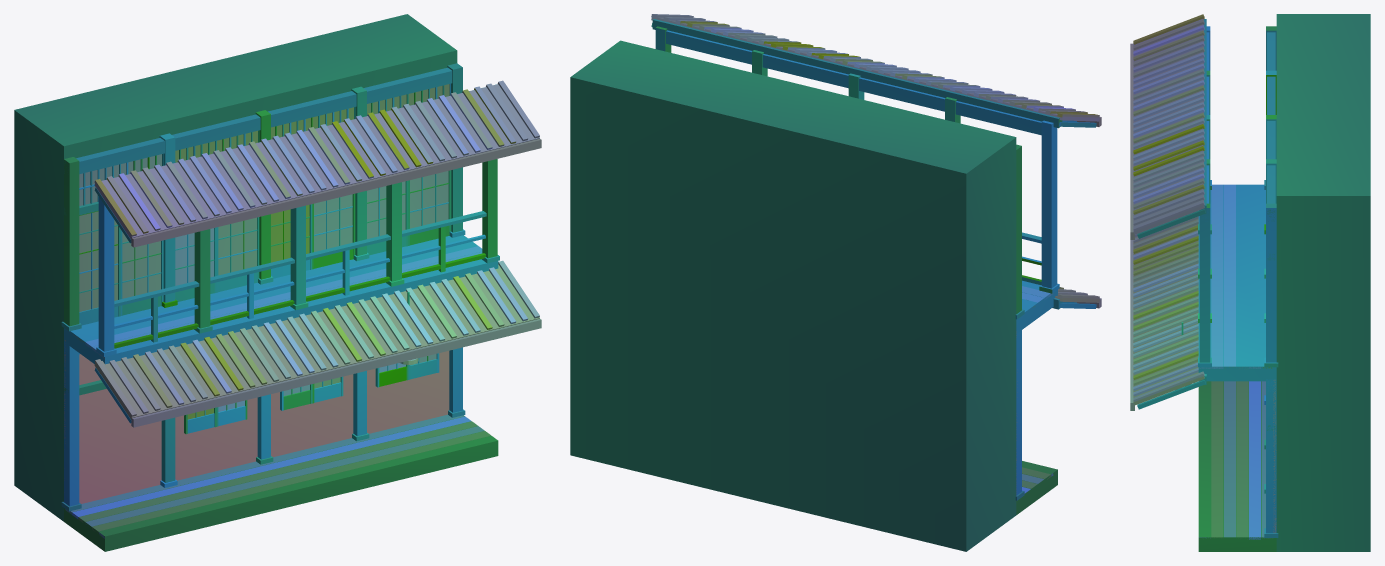
File: B_facade_3.glb
3 views of the same model, side by side, from view 1: azimuth 30°, elevation 25°; view 2: azimuth 150°, elevation 25°; view 3: azimuth 270°, elevation 25° (orthographic). The views are drawn at different scales.
Parts seen in each view (by area): view 1: B_facade_3; view 2: B_facade_3; view 3: B_facade_3.
Part boxes in pixels (<box>): B_facade_3: <box>14,14,541,551</box>; B_facade_3: <box>570,14,1101,551</box>; B_facade_3: <box>1130,14,1370,551</box>.
Size of the model in its own units: 8.3 by 7.3 by 4.47.
